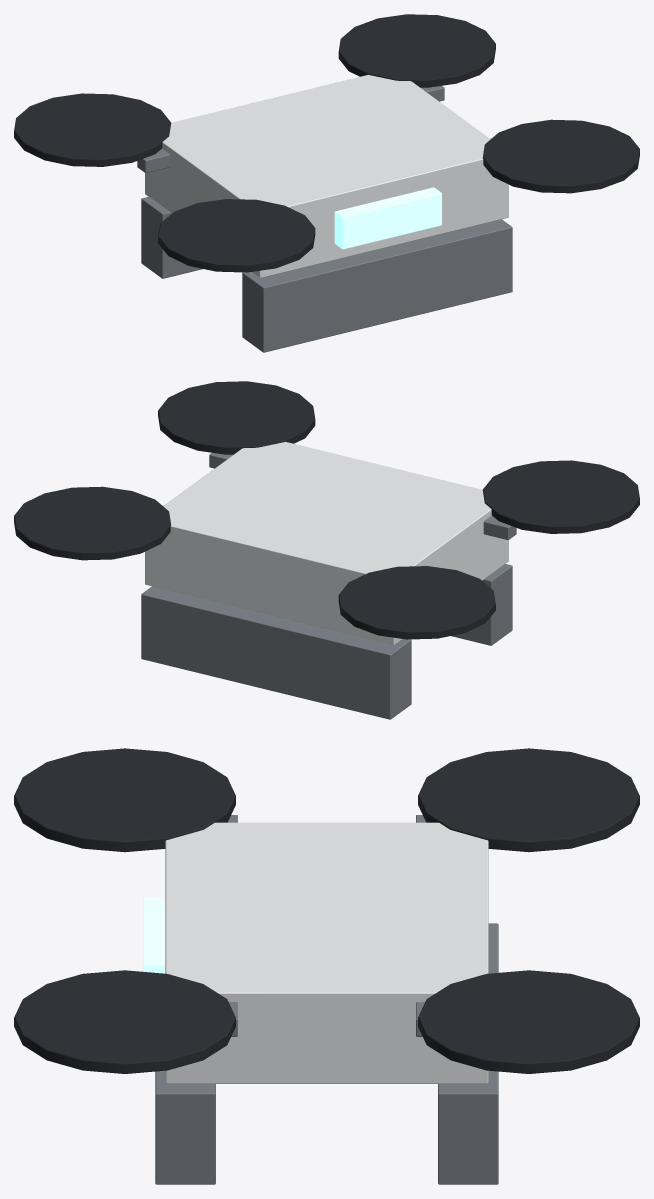
Rendered from vortex_utility_drone.fbx.
3 views of the same model, one above another, from view 1: azimuth 30°, elevation 25°; view 2: azimuth 150°, elevation 25°; view 3: azimuth 270°, elevation 25° (orthographic). The views are drawn at different scales.
Visible parts, largest first — view 1: Utility_Drone; view 2: Utility_Drone; view 3: Utility_Drone.
Boxes of the visible parts, bbox=[...] form: Utility_Drone: bbox=[14, 14, 639, 352]; Utility_Drone: bbox=[14, 381, 639, 719]; Utility_Drone: bbox=[14, 748, 639, 1184].
Bounding box in the file's own units: 66.6 × 19.08 × 55.8.
